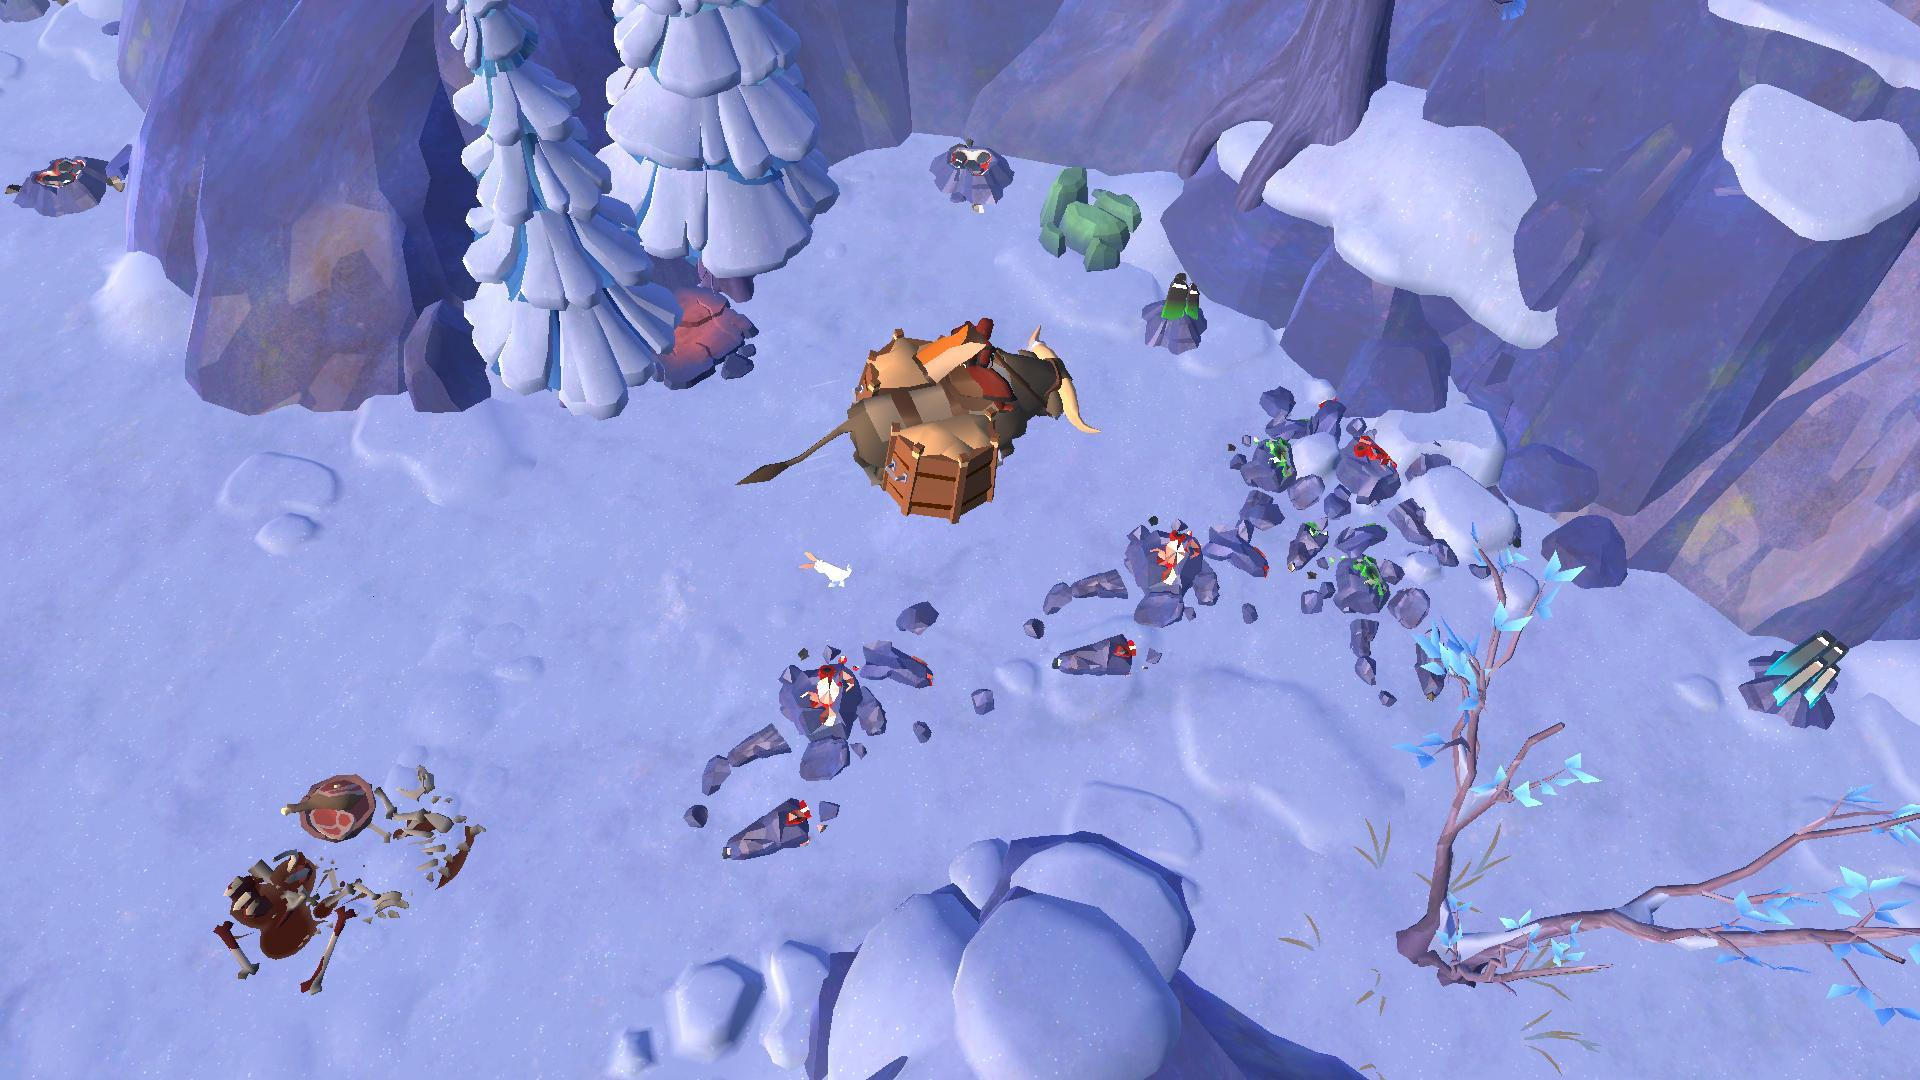ore_t3: (1160, 262, 1203, 323)
ore_t4: (1755, 621, 1841, 712)
rock_t3: (1029, 161, 1145, 272)
